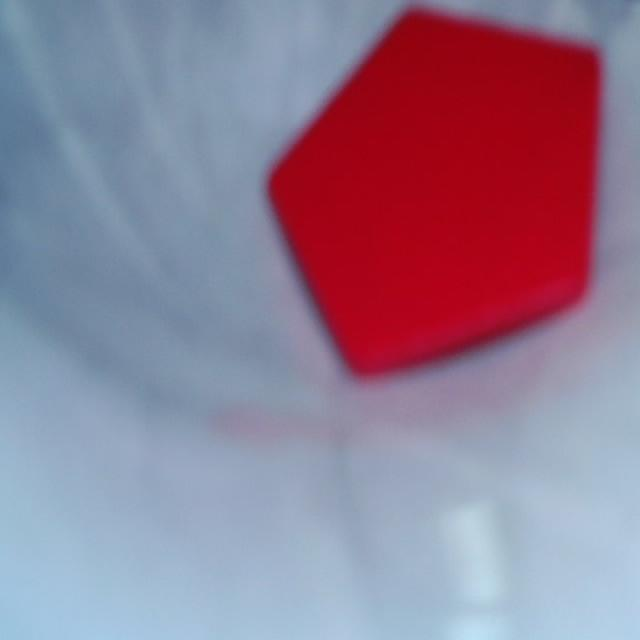pentagon: (269, 11, 600, 373)
